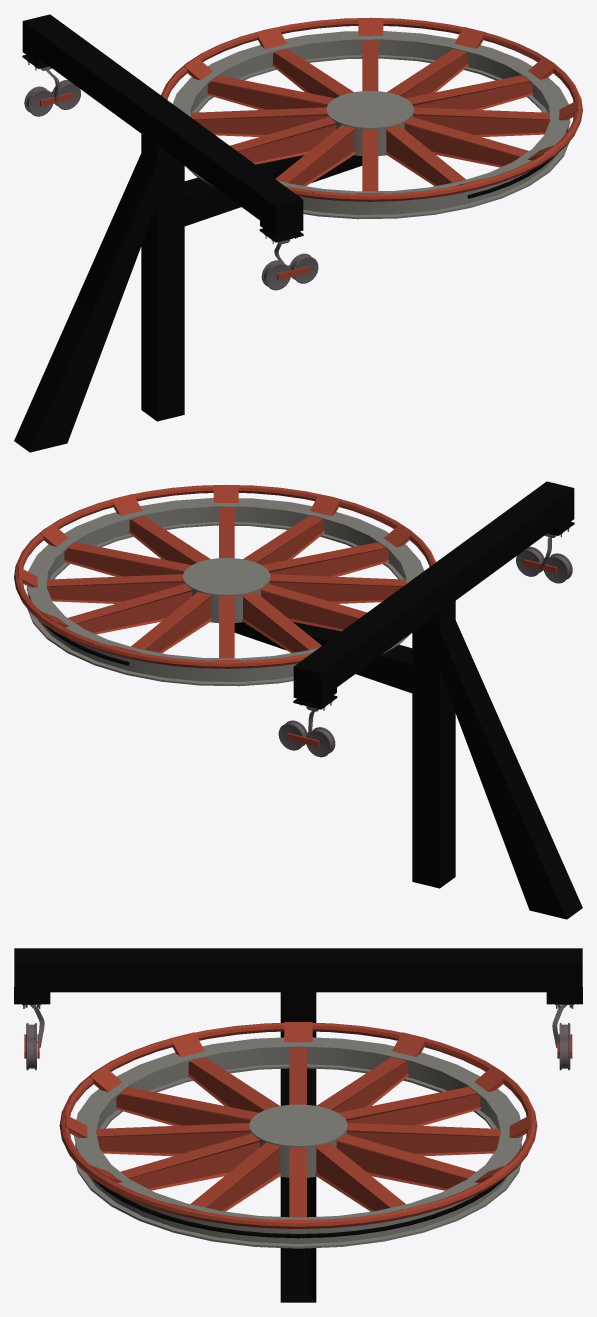
Rendered from SkiLiftTopPole 1.fbx.
3 renders of one model, top to bottom at view 1: azimuth 30°, elevation 25°; view 2: azimuth 150°, elevation 25°; view 3: azimuth 270°, elevation 25°, orthographic. The views are drawn at different scales.
Parts seen in each view (by area): view 1: SkiLiftTop.001; view 2: SkiLiftTop.001; view 3: SkiLiftTop.001.
Boxes of the visible parts, x1,y1,x2,y2 form: SkiLiftTop.001: [14, 14, 582, 452]; SkiLiftTop.001: [14, 481, 582, 919]; SkiLiftTop.001: [14, 948, 582, 1302].
Bounding box in the file's own units: 2.53 × 3.07 × 1.66.
